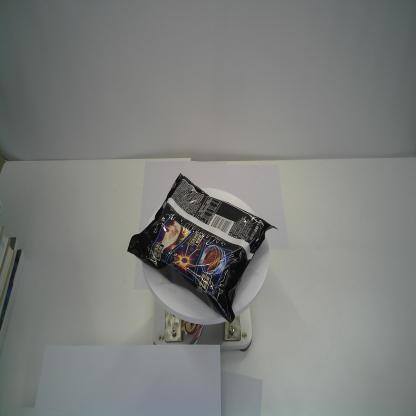Instant Noodles: (126, 173, 278, 322)
